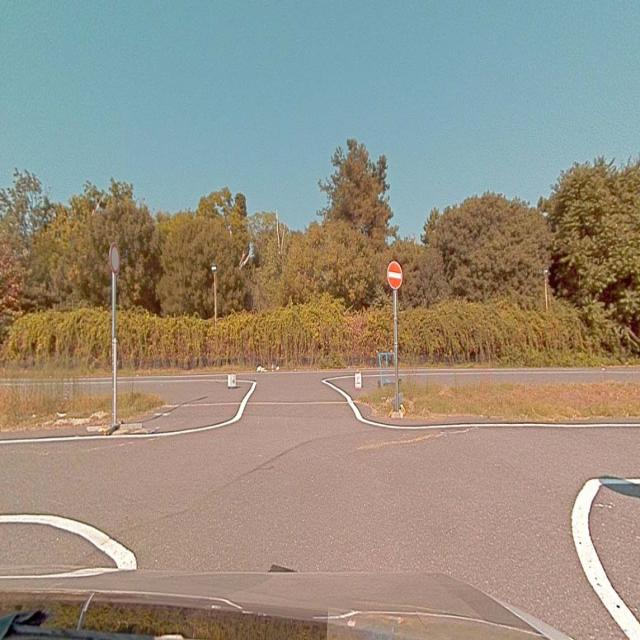girisyok: (386, 262, 402, 287)
